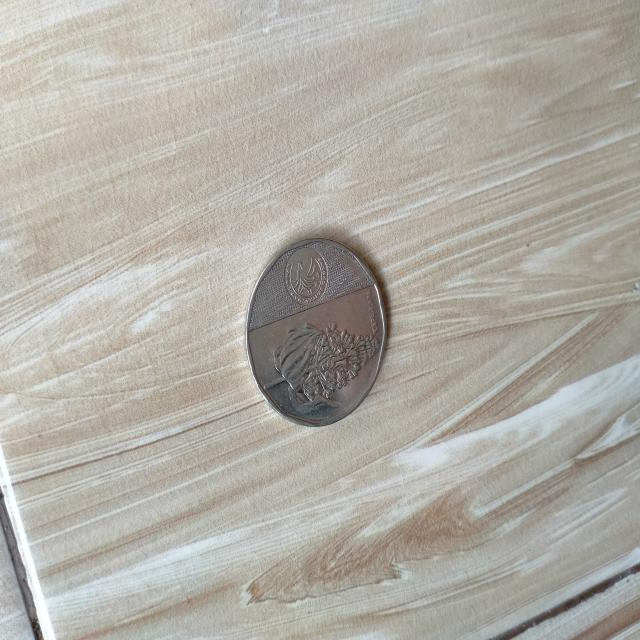10_New_Back: (263, 320, 386, 412)
